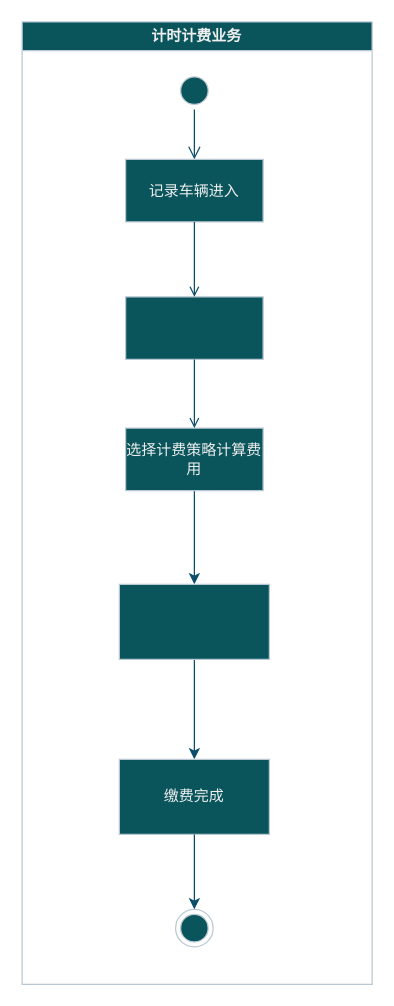
The diagram is 394 pixels wide and 1006 high, and some of its shapes have lost their labels. Each missing label, with the centre of its shape:
发送账单，等待缴费: the point at 193,621
记录车辆准备离开: the point at 193,327
